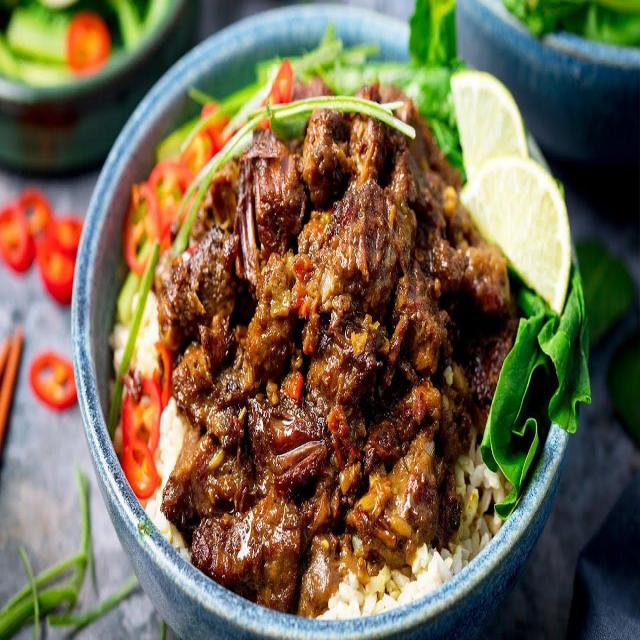Rendang: (150, 74, 540, 570)
